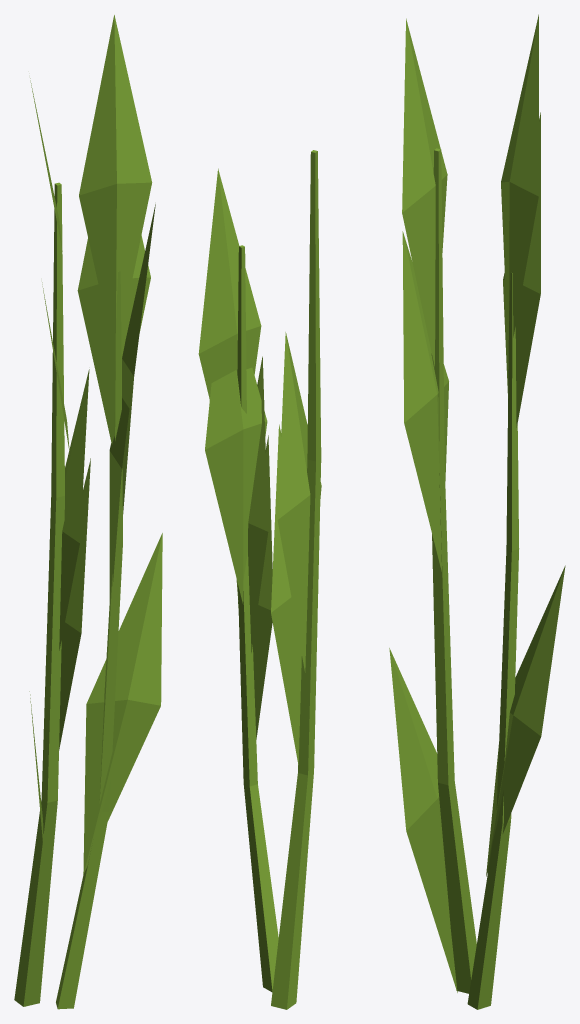
Rendered from grass-reed-mature-a.gltf.
The picture shows the model from 3 angles, left to right: view 1: azimuth 30°, elevation 25°; view 2: azimuth 150°, elevation 25°; view 3: azimuth 330°, elevation 25°; orthographic projection. The views are drawn at different scales.
Visible parts, largest first — view 1: grass-reed-mature-a; view 2: grass-reed-mature-a; view 3: grass-reed-mature-a.
Part boxes in pixels (x1,y1,x2,y2): grass-reed-mature-a: [14, 15, 162, 1009]; grass-reed-mature-a: [198, 150, 321, 1009]; grass-reed-mature-a: [389, 14, 565, 1009].
Bounding box in the file's own units: 0.00328 × 0.0201 × 0.00216.
